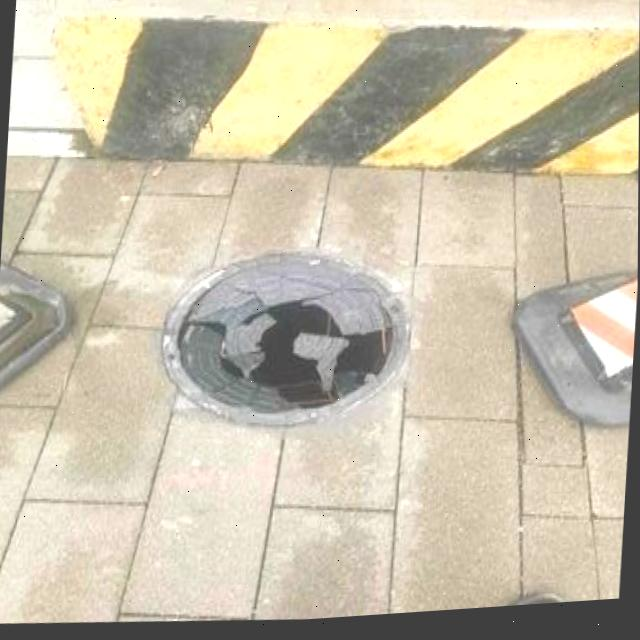manhole: (156, 238, 414, 442)
